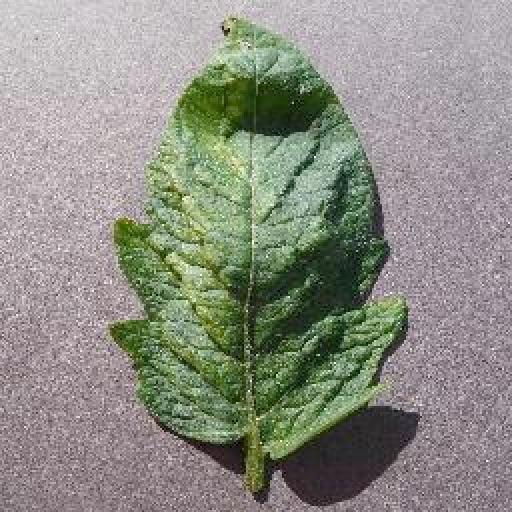disease_tomato: (111, 13, 405, 459)
